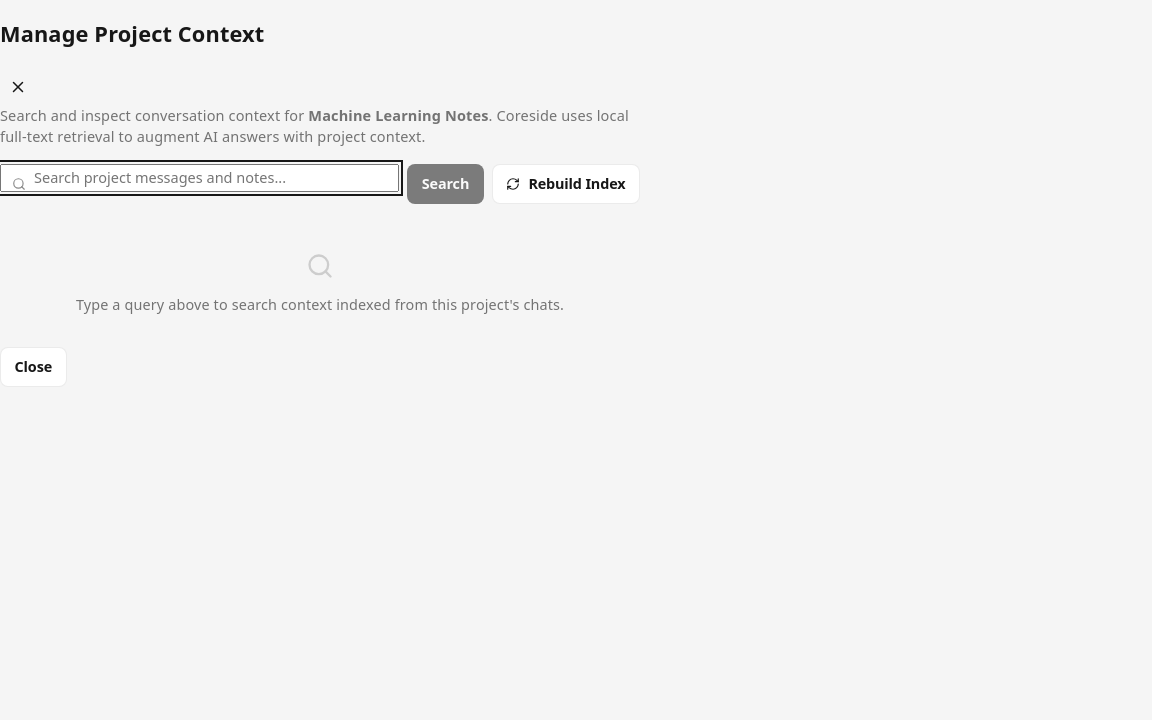
Test: ProjectContextDialog › rebuilds index and displays status message
This screenshot has width=1152, height=720.
Click the button "Rebuild Index": (566, 184) [492,164,640,204]
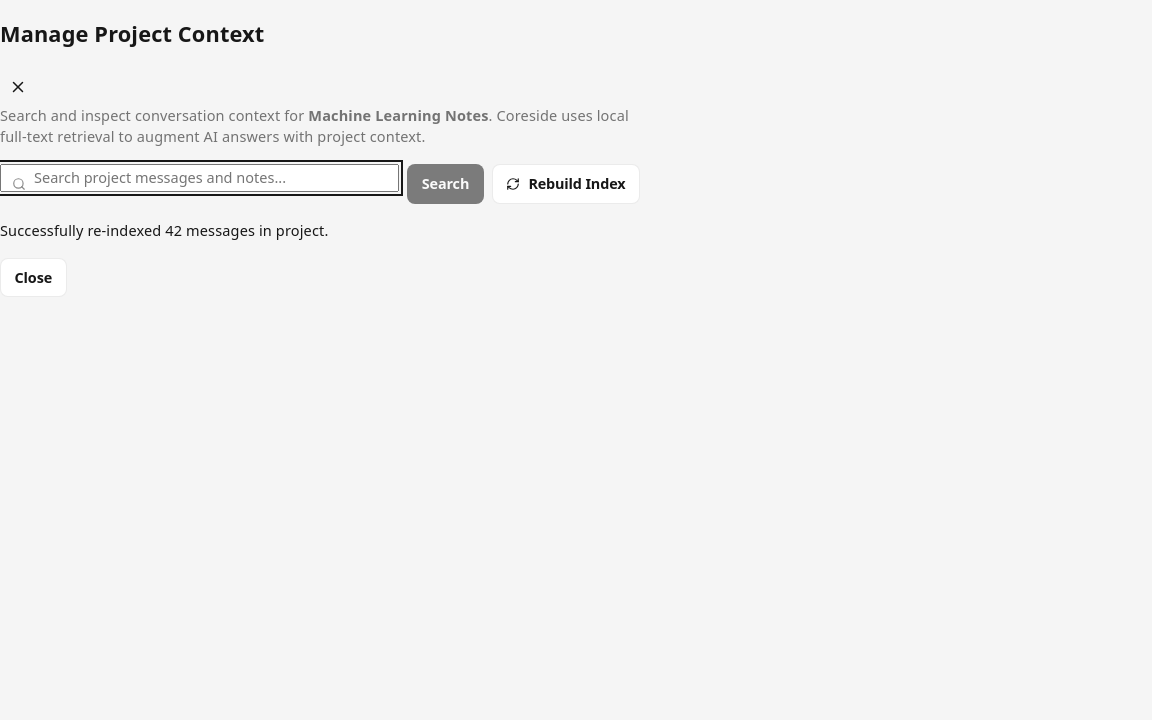
expect the text "Successfully re-indexed 42 messages in project." is shown: met, box [0,220,328,240]
